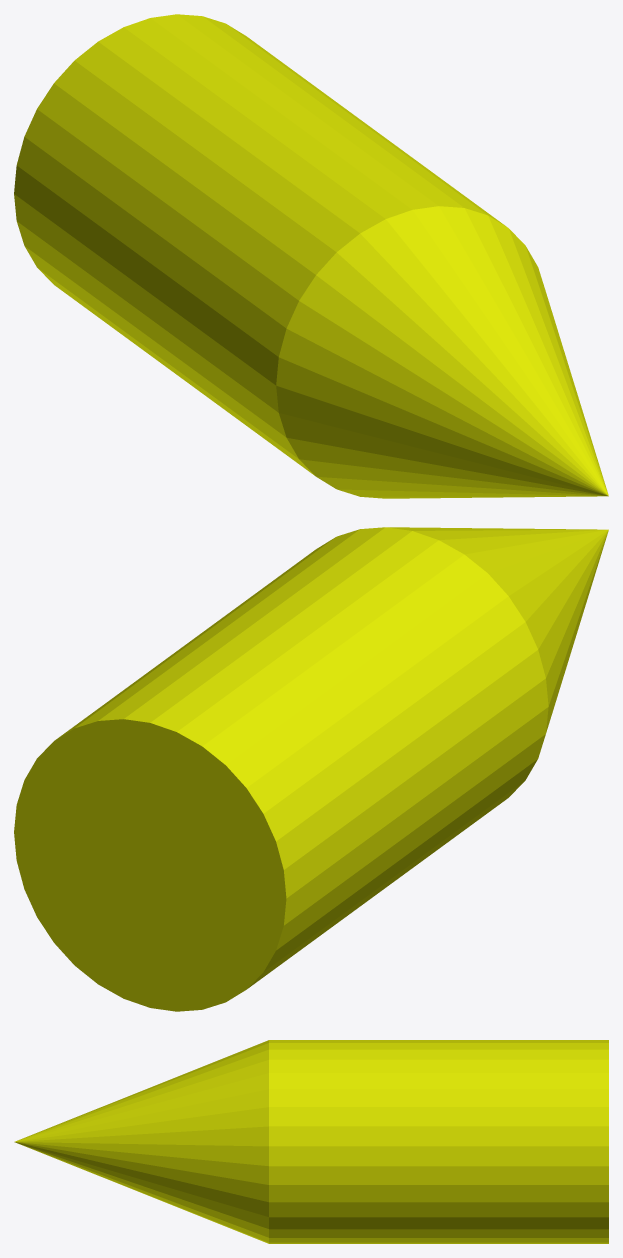
Rendered from Bullet.fbx.
3 renders of one model, top to bottom at view 1: azimuth 30°, elevation 25°; view 2: azimuth 150°, elevation 25°; view 3: azimuth 270°, elevation 25°, orthographic. The views are drawn at different scales.
Visible parts, largest first — view 1: Cylinder.001; view 2: Cylinder.001; view 3: Cylinder.001.
Part boxes in pixels (x1,y1,x2,y2): Cylinder.001: (14, 14, 608, 498); Cylinder.001: (14, 527, 608, 1011); Cylinder.001: (14, 1040, 608, 1243).
Bounding box in the file's own units: 15 × 15 × 43.75.
